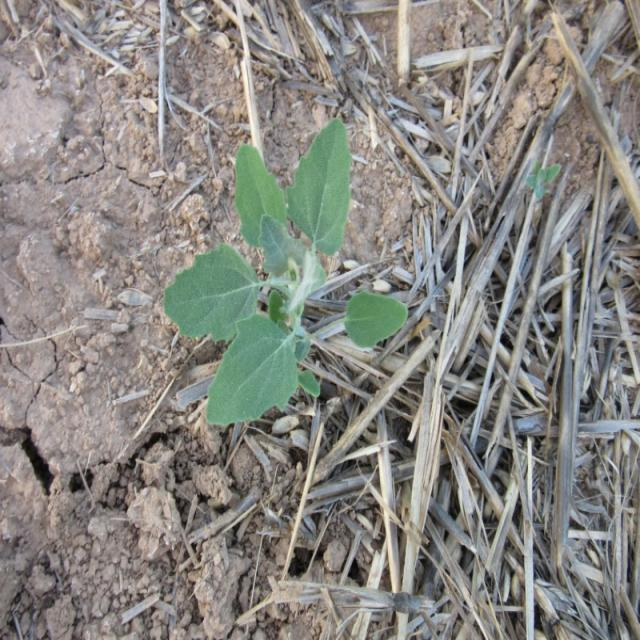ca: (163, 116, 410, 427)
